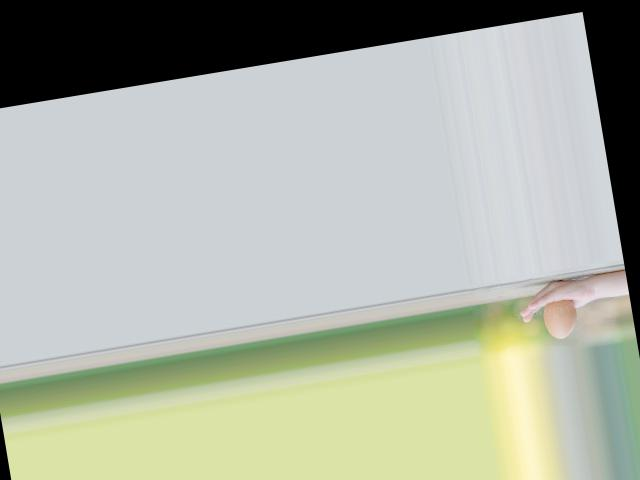egg: (542, 297, 581, 340)
